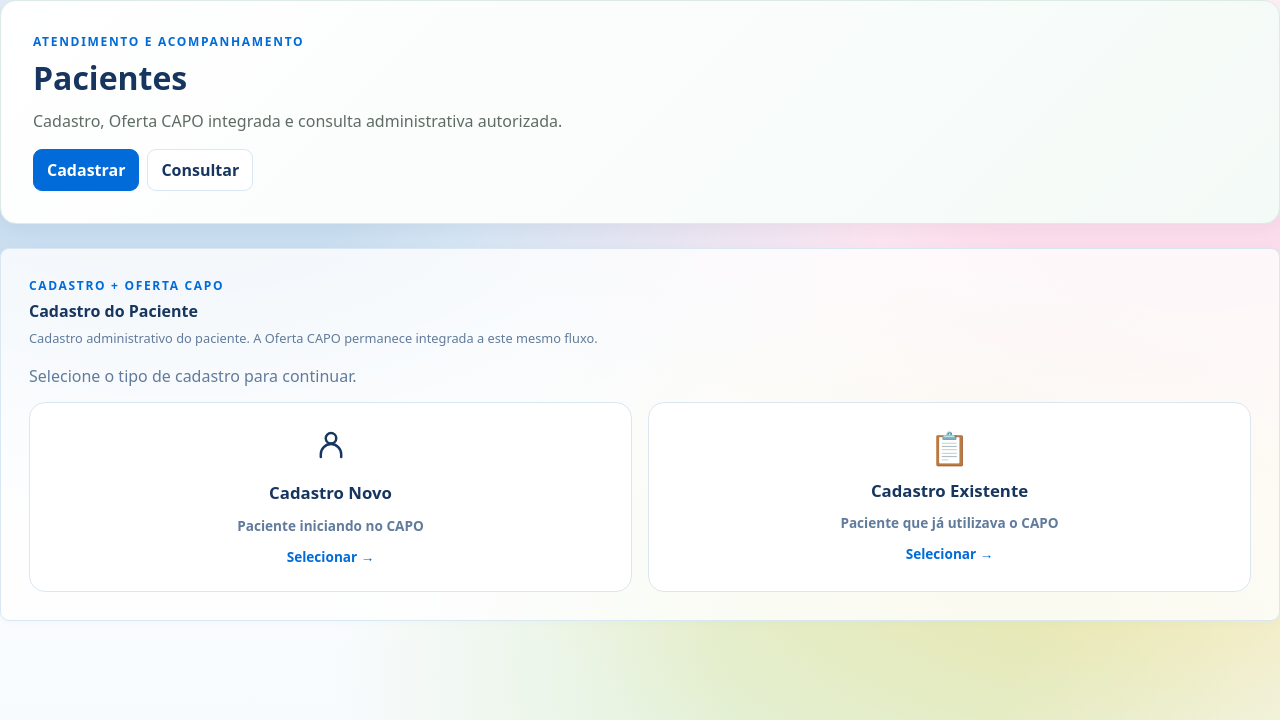
it: exibe resultado misto sem selecionar o paciente como se fosse o familiar
Click the button "Consultar" at (200, 170), box [147,149,253,191]
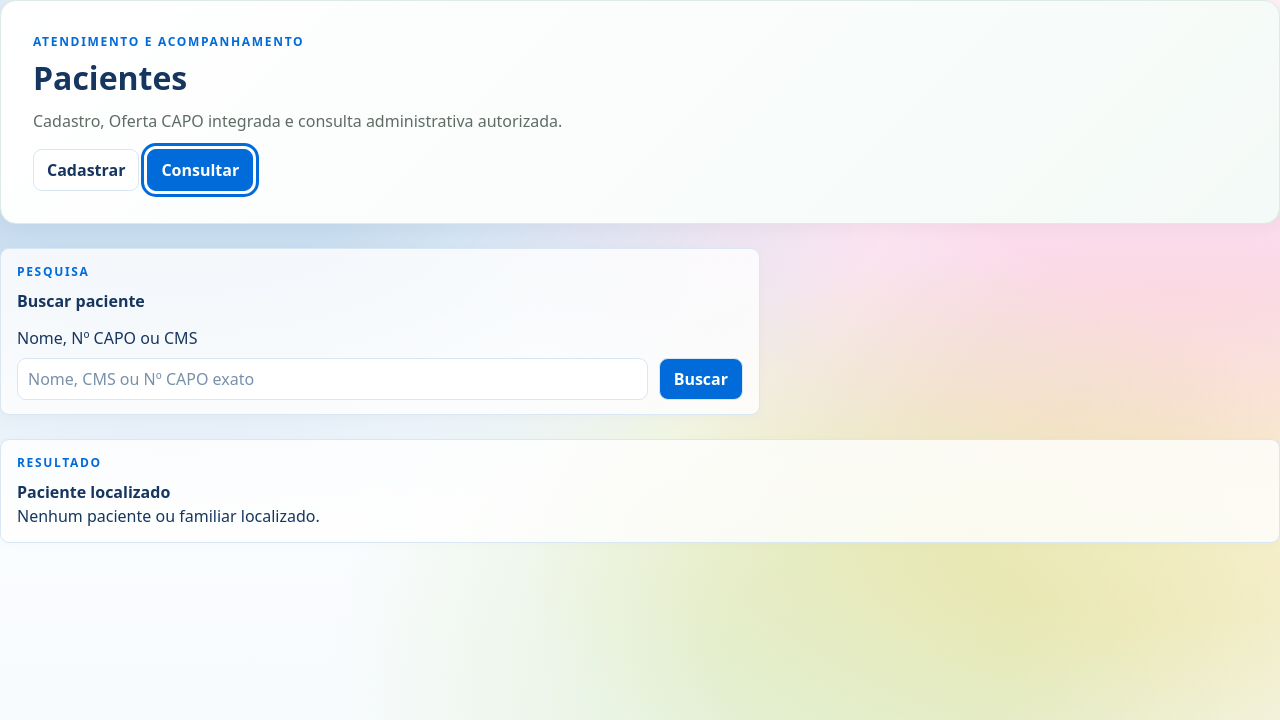
Type "semelhante" into the field with placeholder "Nome, CMS ou Nº CAPO exato" at (332, 379), box [17,358,648,400]
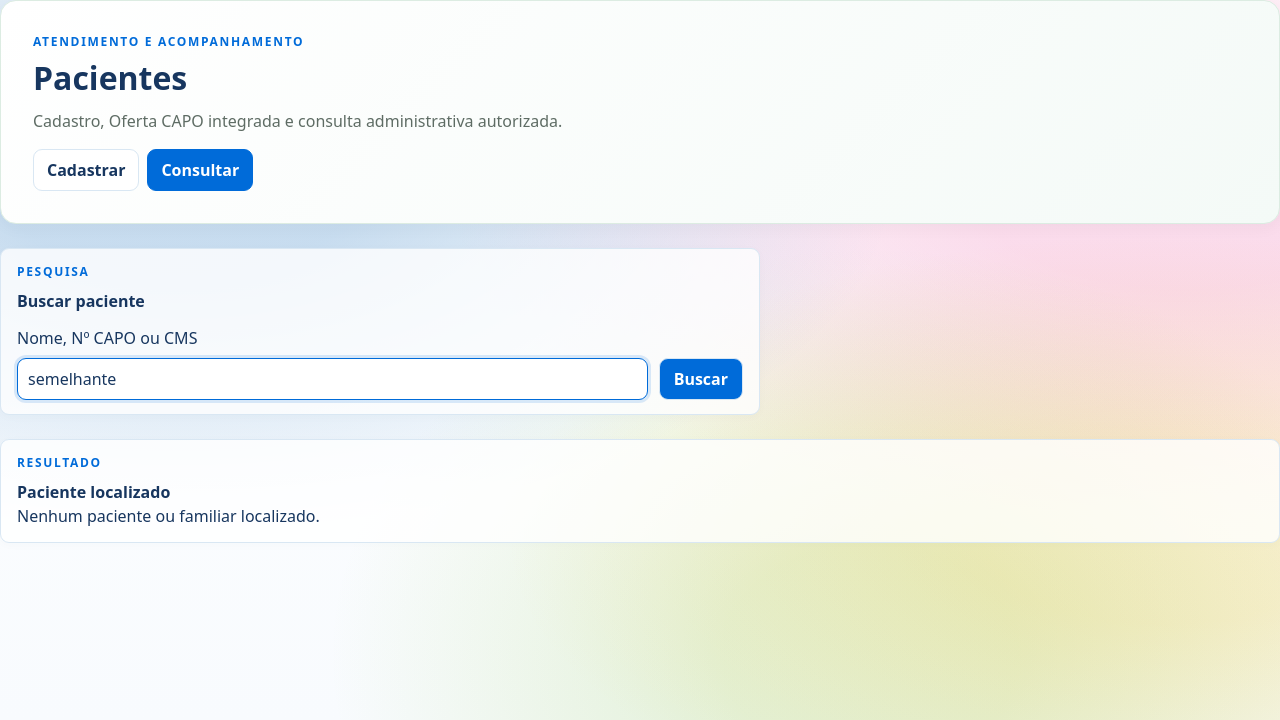
Click the button "Buscar" at (701, 379), box [659,358,743,400]
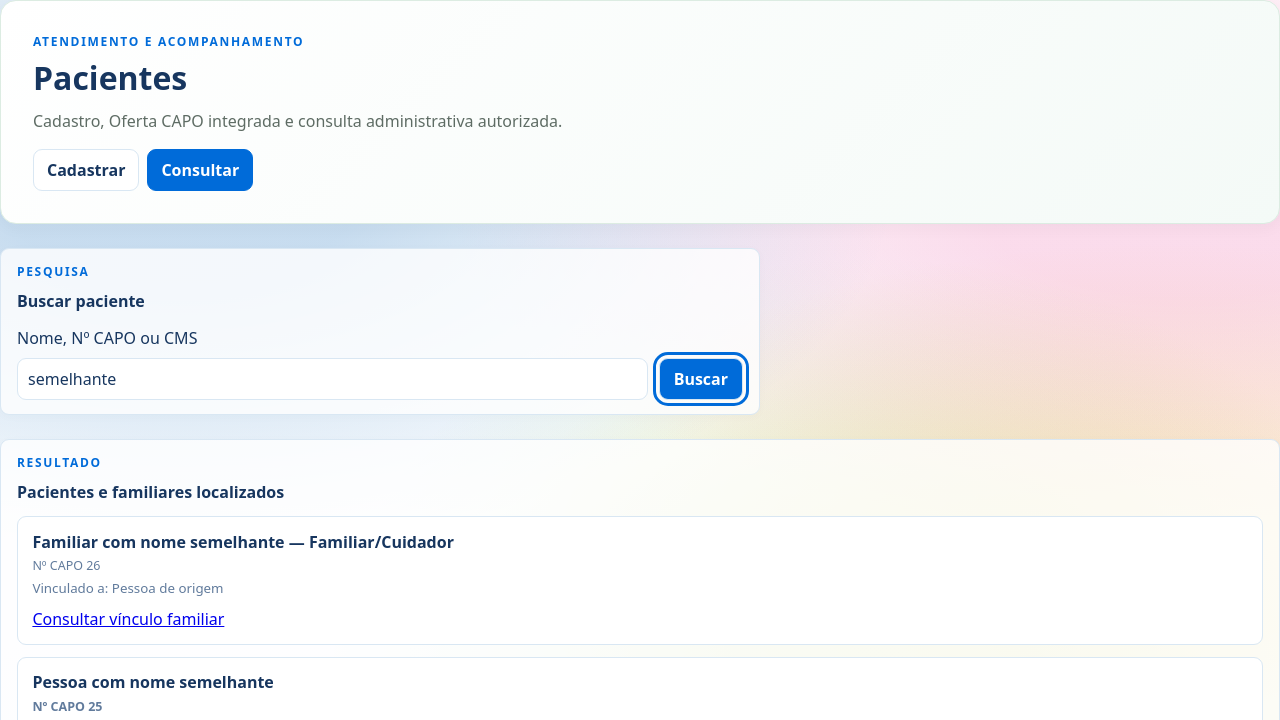
expect the text "Familiar com nome semelhante — Familiar/Cuidador" is shown: met, box [32,531,454,553]
expect the text "Pessoa com nome semelhante" is shown: met, box [32,671,274,693]
